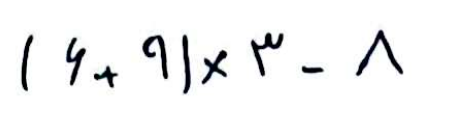character: (355, 30, 405, 77), (250, 31, 283, 76), (65, 36, 87, 87), (142, 35, 167, 78), (200, 49, 228, 85), (20, 33, 35, 90), (180, 32, 193, 95), (93, 65, 119, 87), (301, 66, 324, 80)
